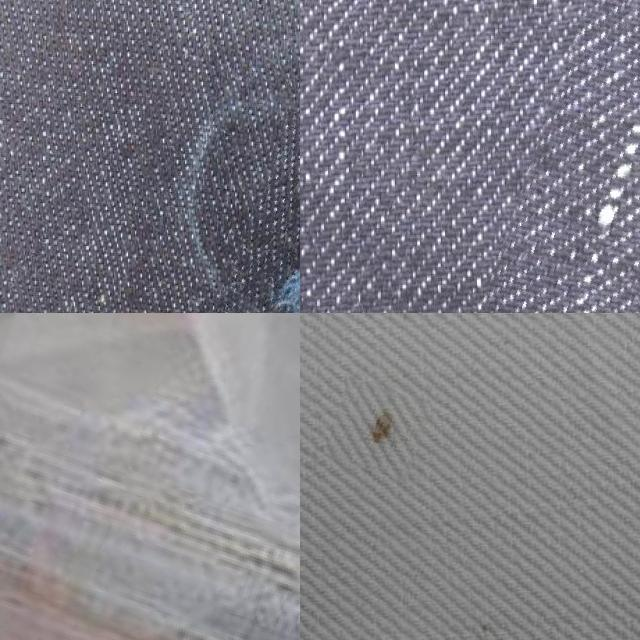Thread_other: (328, 382, 426, 476)
stains: (0, 313, 300, 640), (467, 0, 640, 313), (231, 118, 300, 313)
